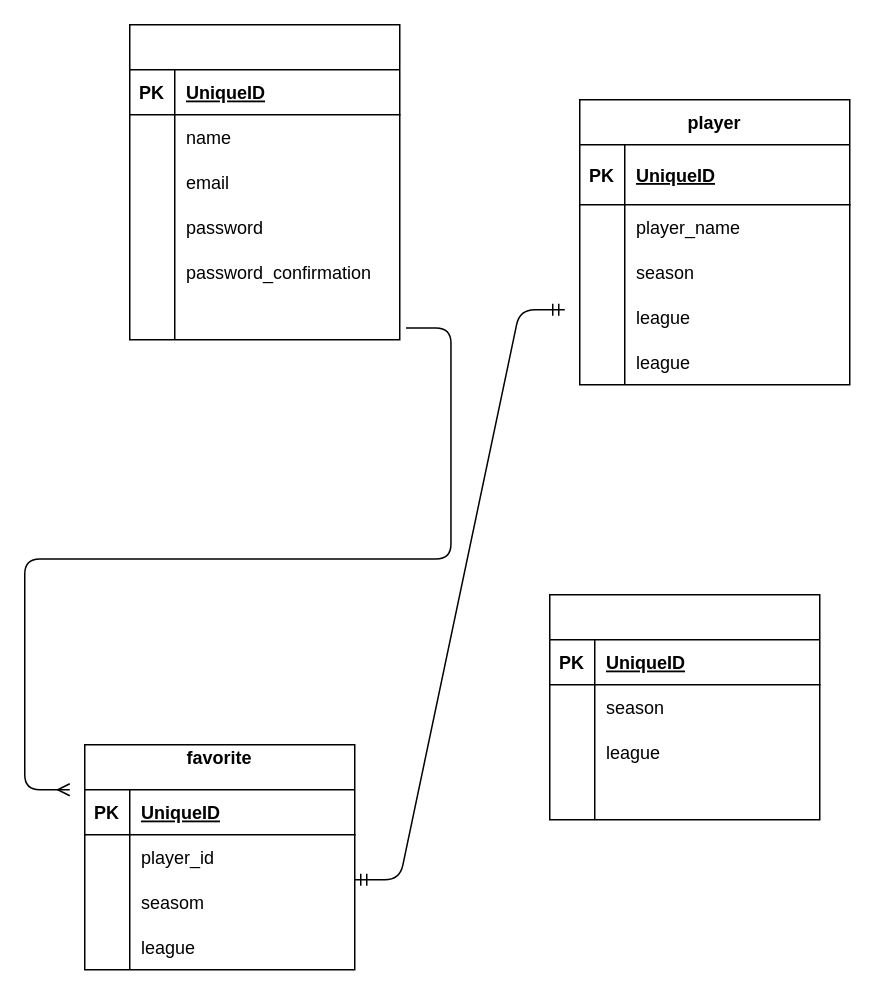
The diagram is 875 pixels wide and 995 high, and some of its shapes have lost their labels. Each missing label, with the box of its shape:
game: (548, 593, 820, 820)
user: (128, 23, 400, 340)
